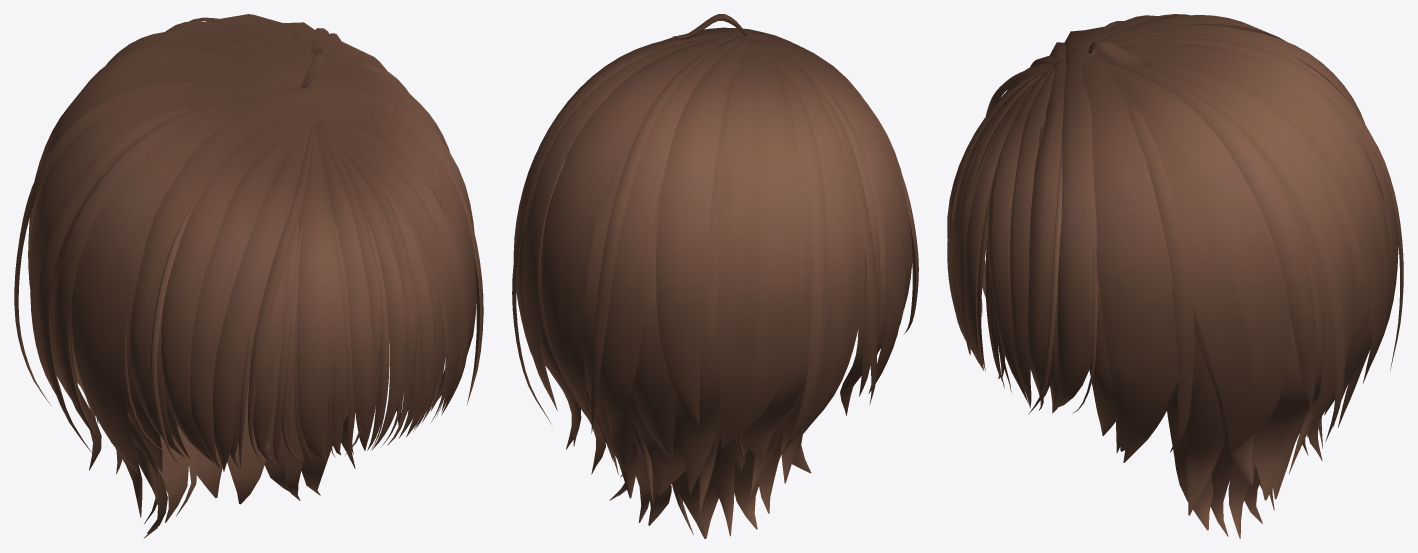
Rendered from vroid_hair_c7v3.glb.
3 views of the same model, side by side, from view 1: azimuth 30°, elevation 25°; view 2: azimuth 150°, elevation 25°; view 3: azimuth 270°, elevation 25° (orthographic). The views are drawn at different scales.
Visible parts, largest first — view 1: hair; view 2: hair; view 3: hair.
Part boxes in pixels (x1,y1,x2,y2): hair: (14,14,483,538); hair: (512,14,918,538); hair: (947,14,1403,538).
Size of the model in its own units: 0.2174 by 0.2737 by 0.2361.
1 material, 1 textured.
